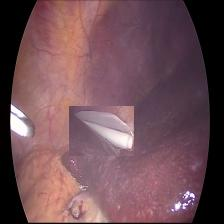Grasper: (10, 100, 37, 145)
Specimen Bag: (70, 107, 134, 155)
